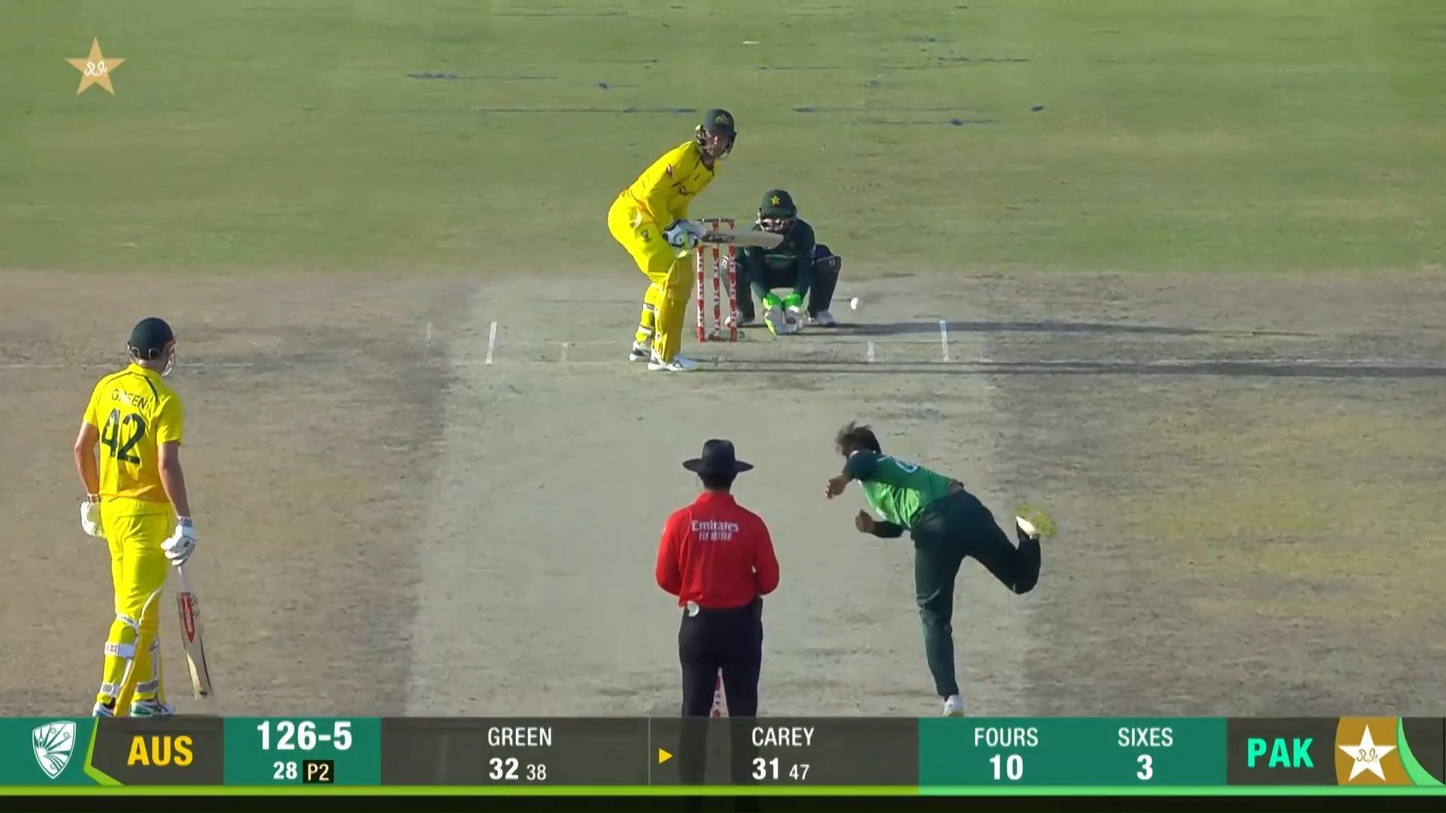BM 1: (607, 108, 784, 373)
BO: (825, 417, 1060, 727)
